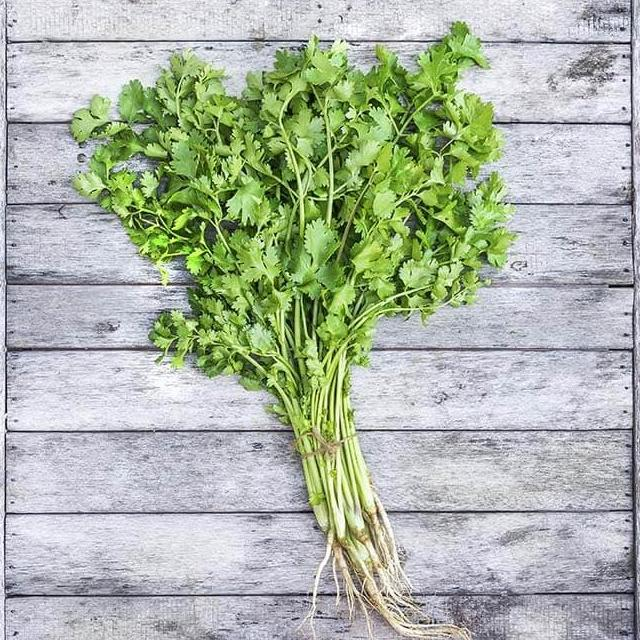cilantro: (68, 22, 515, 640)
